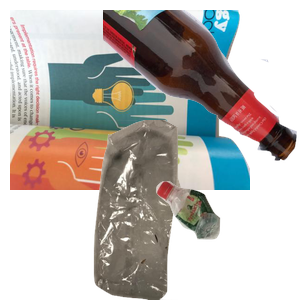glass: (103, 10, 300, 163)
paper: (10, 10, 250, 190)
plastic: (153, 178, 300, 300)
trash: (70, 120, 256, 300)
